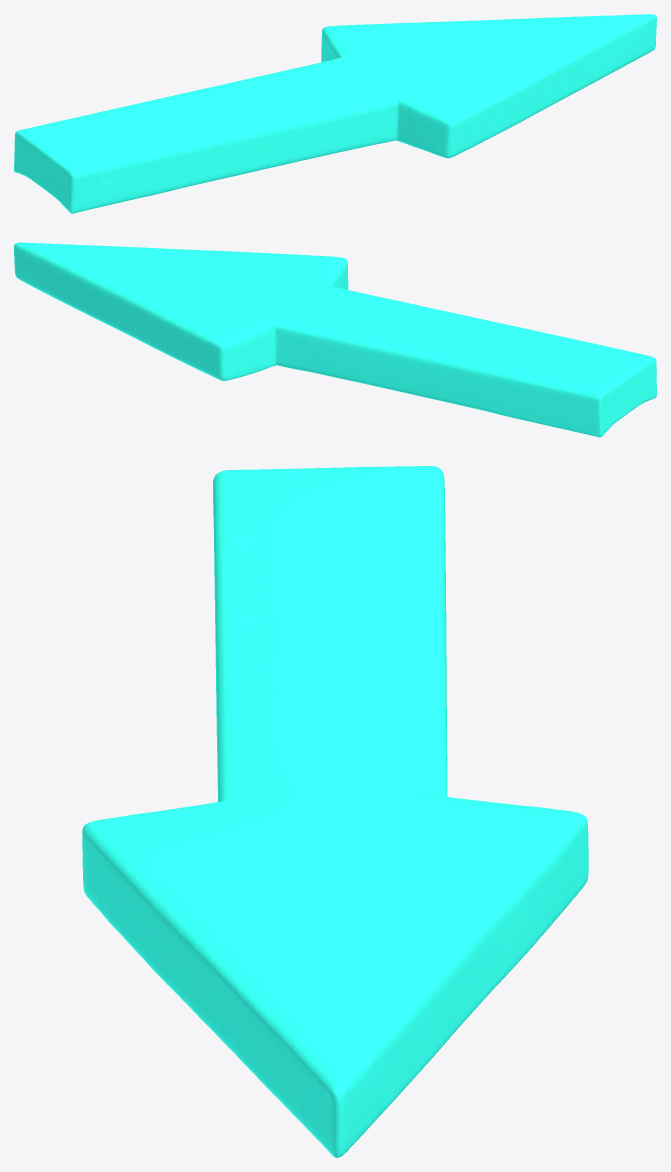
File: modelblue.glb
3 views of the same model, one above another, from view 1: azimuth 30°, elevation 25°; view 2: azimuth 150°, elevation 25°; view 3: azimuth 270°, elevation 25° (orthographic). The views are drawn at different scales.
Visible parts, largest first — view 1: Mesh_0.001; view 2: Mesh_0.001; view 3: Mesh_0.001.
Part boxes in pixels (<box>): Mesh_0.001: <box>14,14,656,213</box>; Mesh_0.001: <box>14,242,656,437</box>; Mesh_0.001: <box>82,466,588,1157</box>.
Bounding box in the file's own units: 2 × 0.1624 × 0.716.
